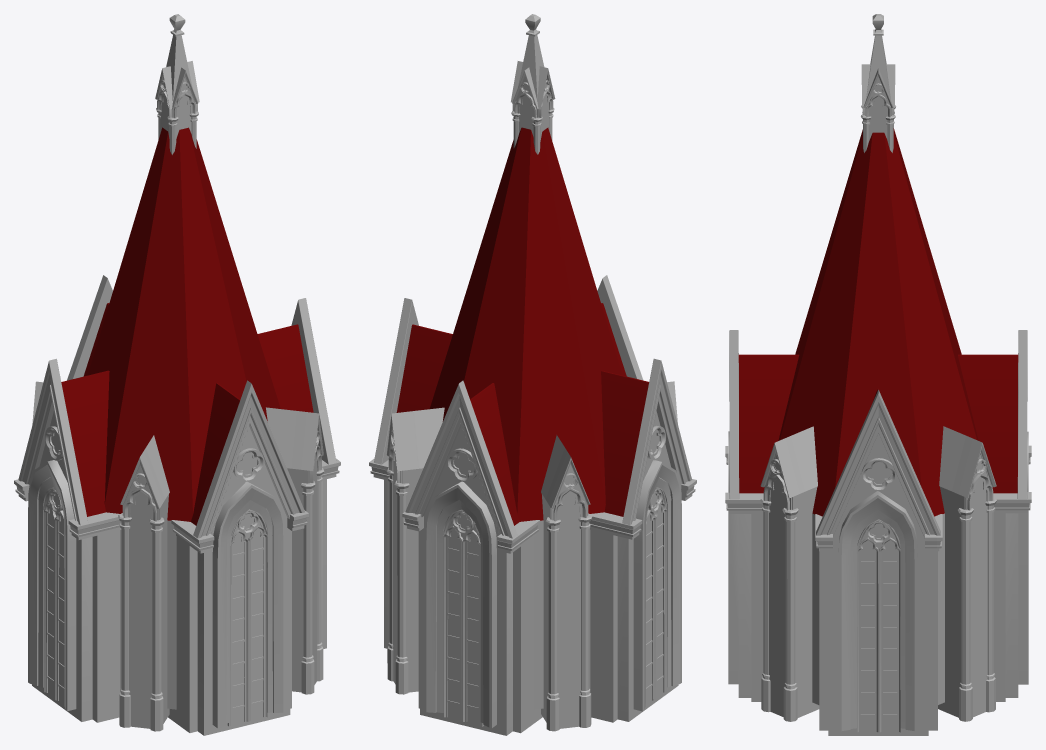
Rendered from spire_001.glb.
3 views of the same model, side by side, from view 1: azimuth 30°, elevation 25°; view 2: azimuth 150°, elevation 25°; view 3: azimuth 270°, elevation 25° (orthographic).
Visible parts, largest first — view 1: spire_001; view 2: spire_001; view 3: spire_001.
Boxes of the visible parts, box(x1,y1,x2,y2) form: spire_001: box(14, 14, 340, 735); spire_001: box(369, 14, 696, 735); spire_001: box(725, 14, 1031, 735).
Size of the model in its own units: 2.12 by 5.06 by 2.12.
